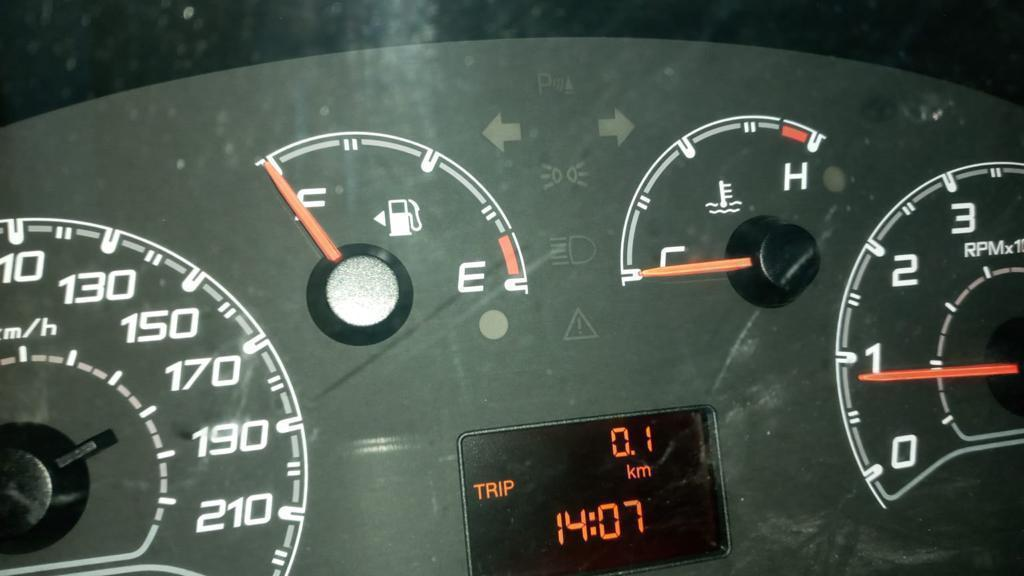,: (630, 448, 635, 457)
0: (597, 502, 621, 541), (609, 425, 630, 457)
1: (554, 510, 564, 547), (643, 423, 654, 453)
4: (564, 507, 587, 542)
7: (622, 497, 644, 534)
X: (471, 481, 485, 500), (588, 510, 597, 537), (485, 481, 497, 499), (503, 478, 515, 496), (636, 464, 651, 478), (625, 461, 636, 480), (497, 479, 503, 497)
odometer: (455, 402, 735, 574)
